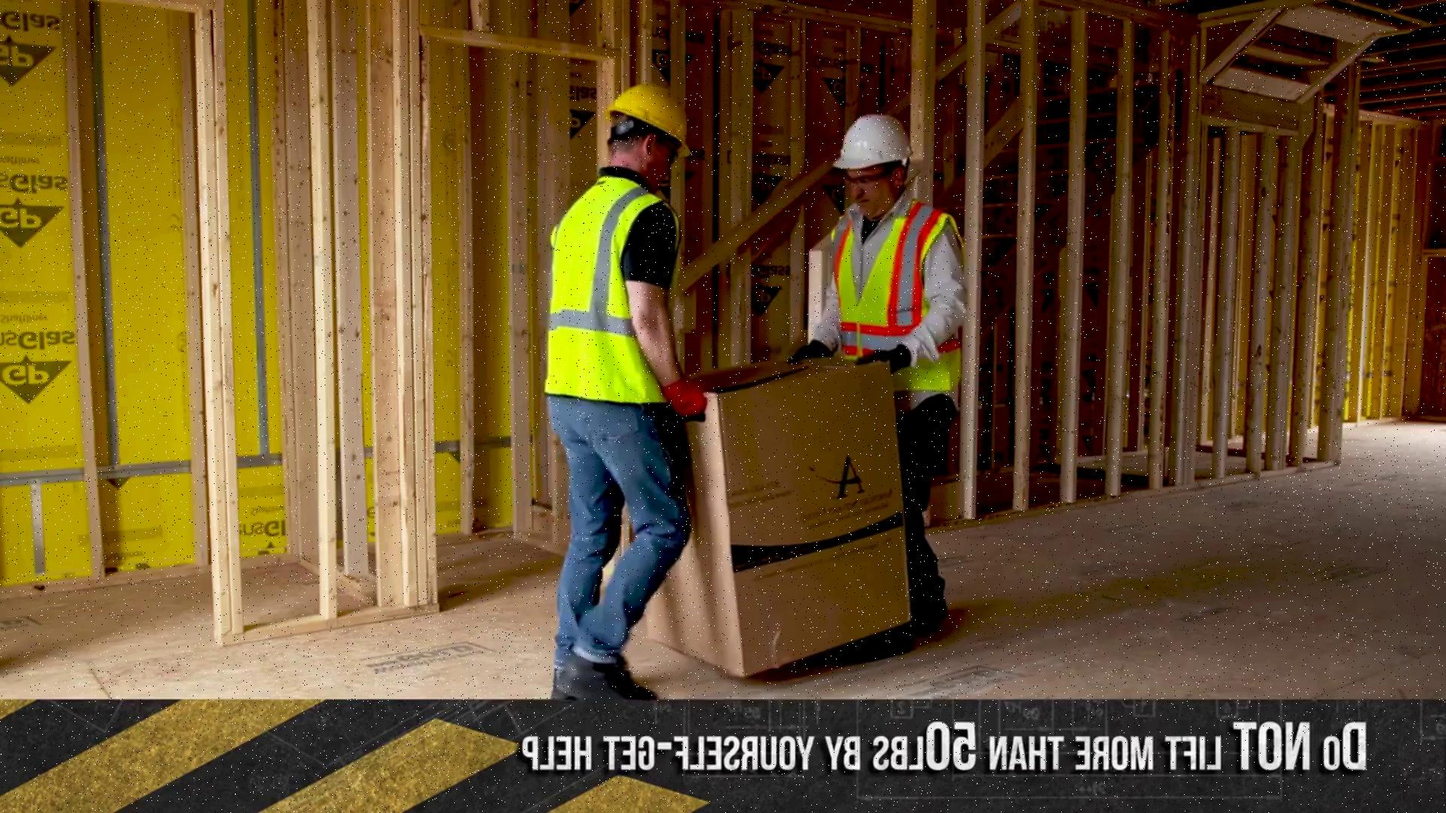Hard_hat: (598, 86, 699, 156), (831, 112, 917, 174)
Vest: (784, 199, 912, 403)
